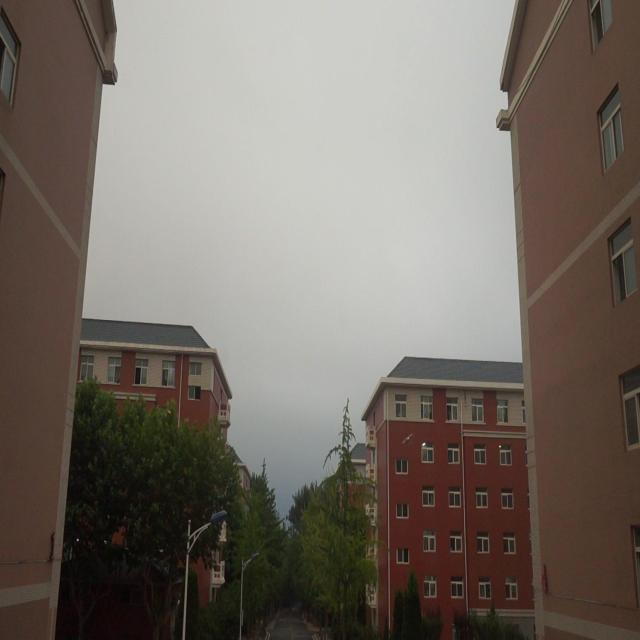drone: (401, 428, 416, 449)
